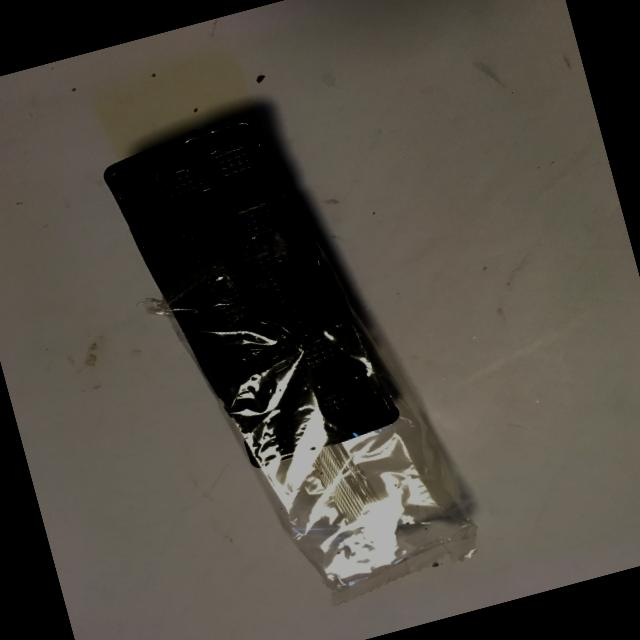Plastic: (71, 48, 520, 640)
